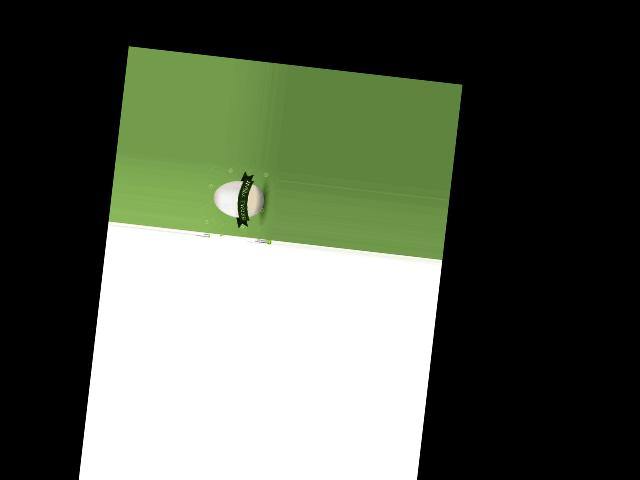egg: (211, 179, 266, 220)
